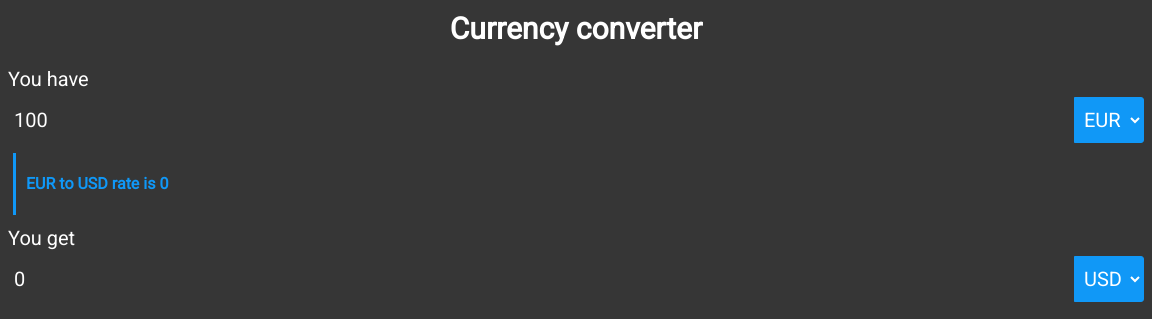
Test: Converter Container › Rate is set to 1 when currencies are the same
Select "USD" in the dropdown with id "inputASelect" at {"x": 1109, "y": 120}, box [1074,97,1144,143]
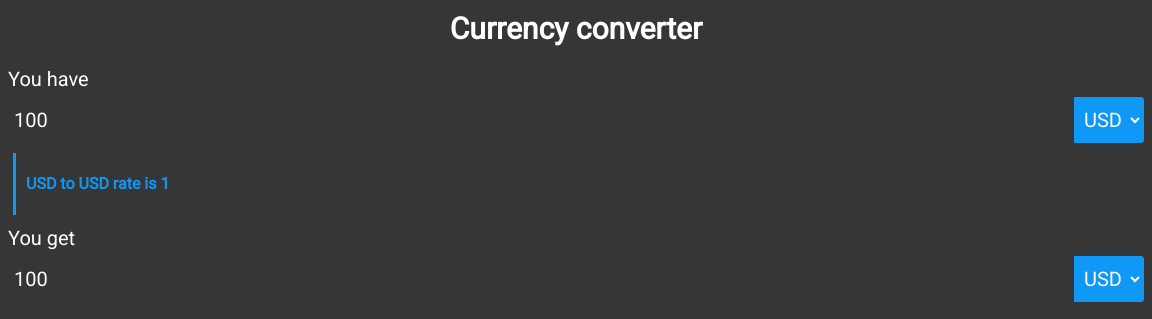
Expected: the text with id "rate" reads "1", [160,174,170,193]
Expected: the field with id "inputB" holds "100", [8,256,1144,302]
